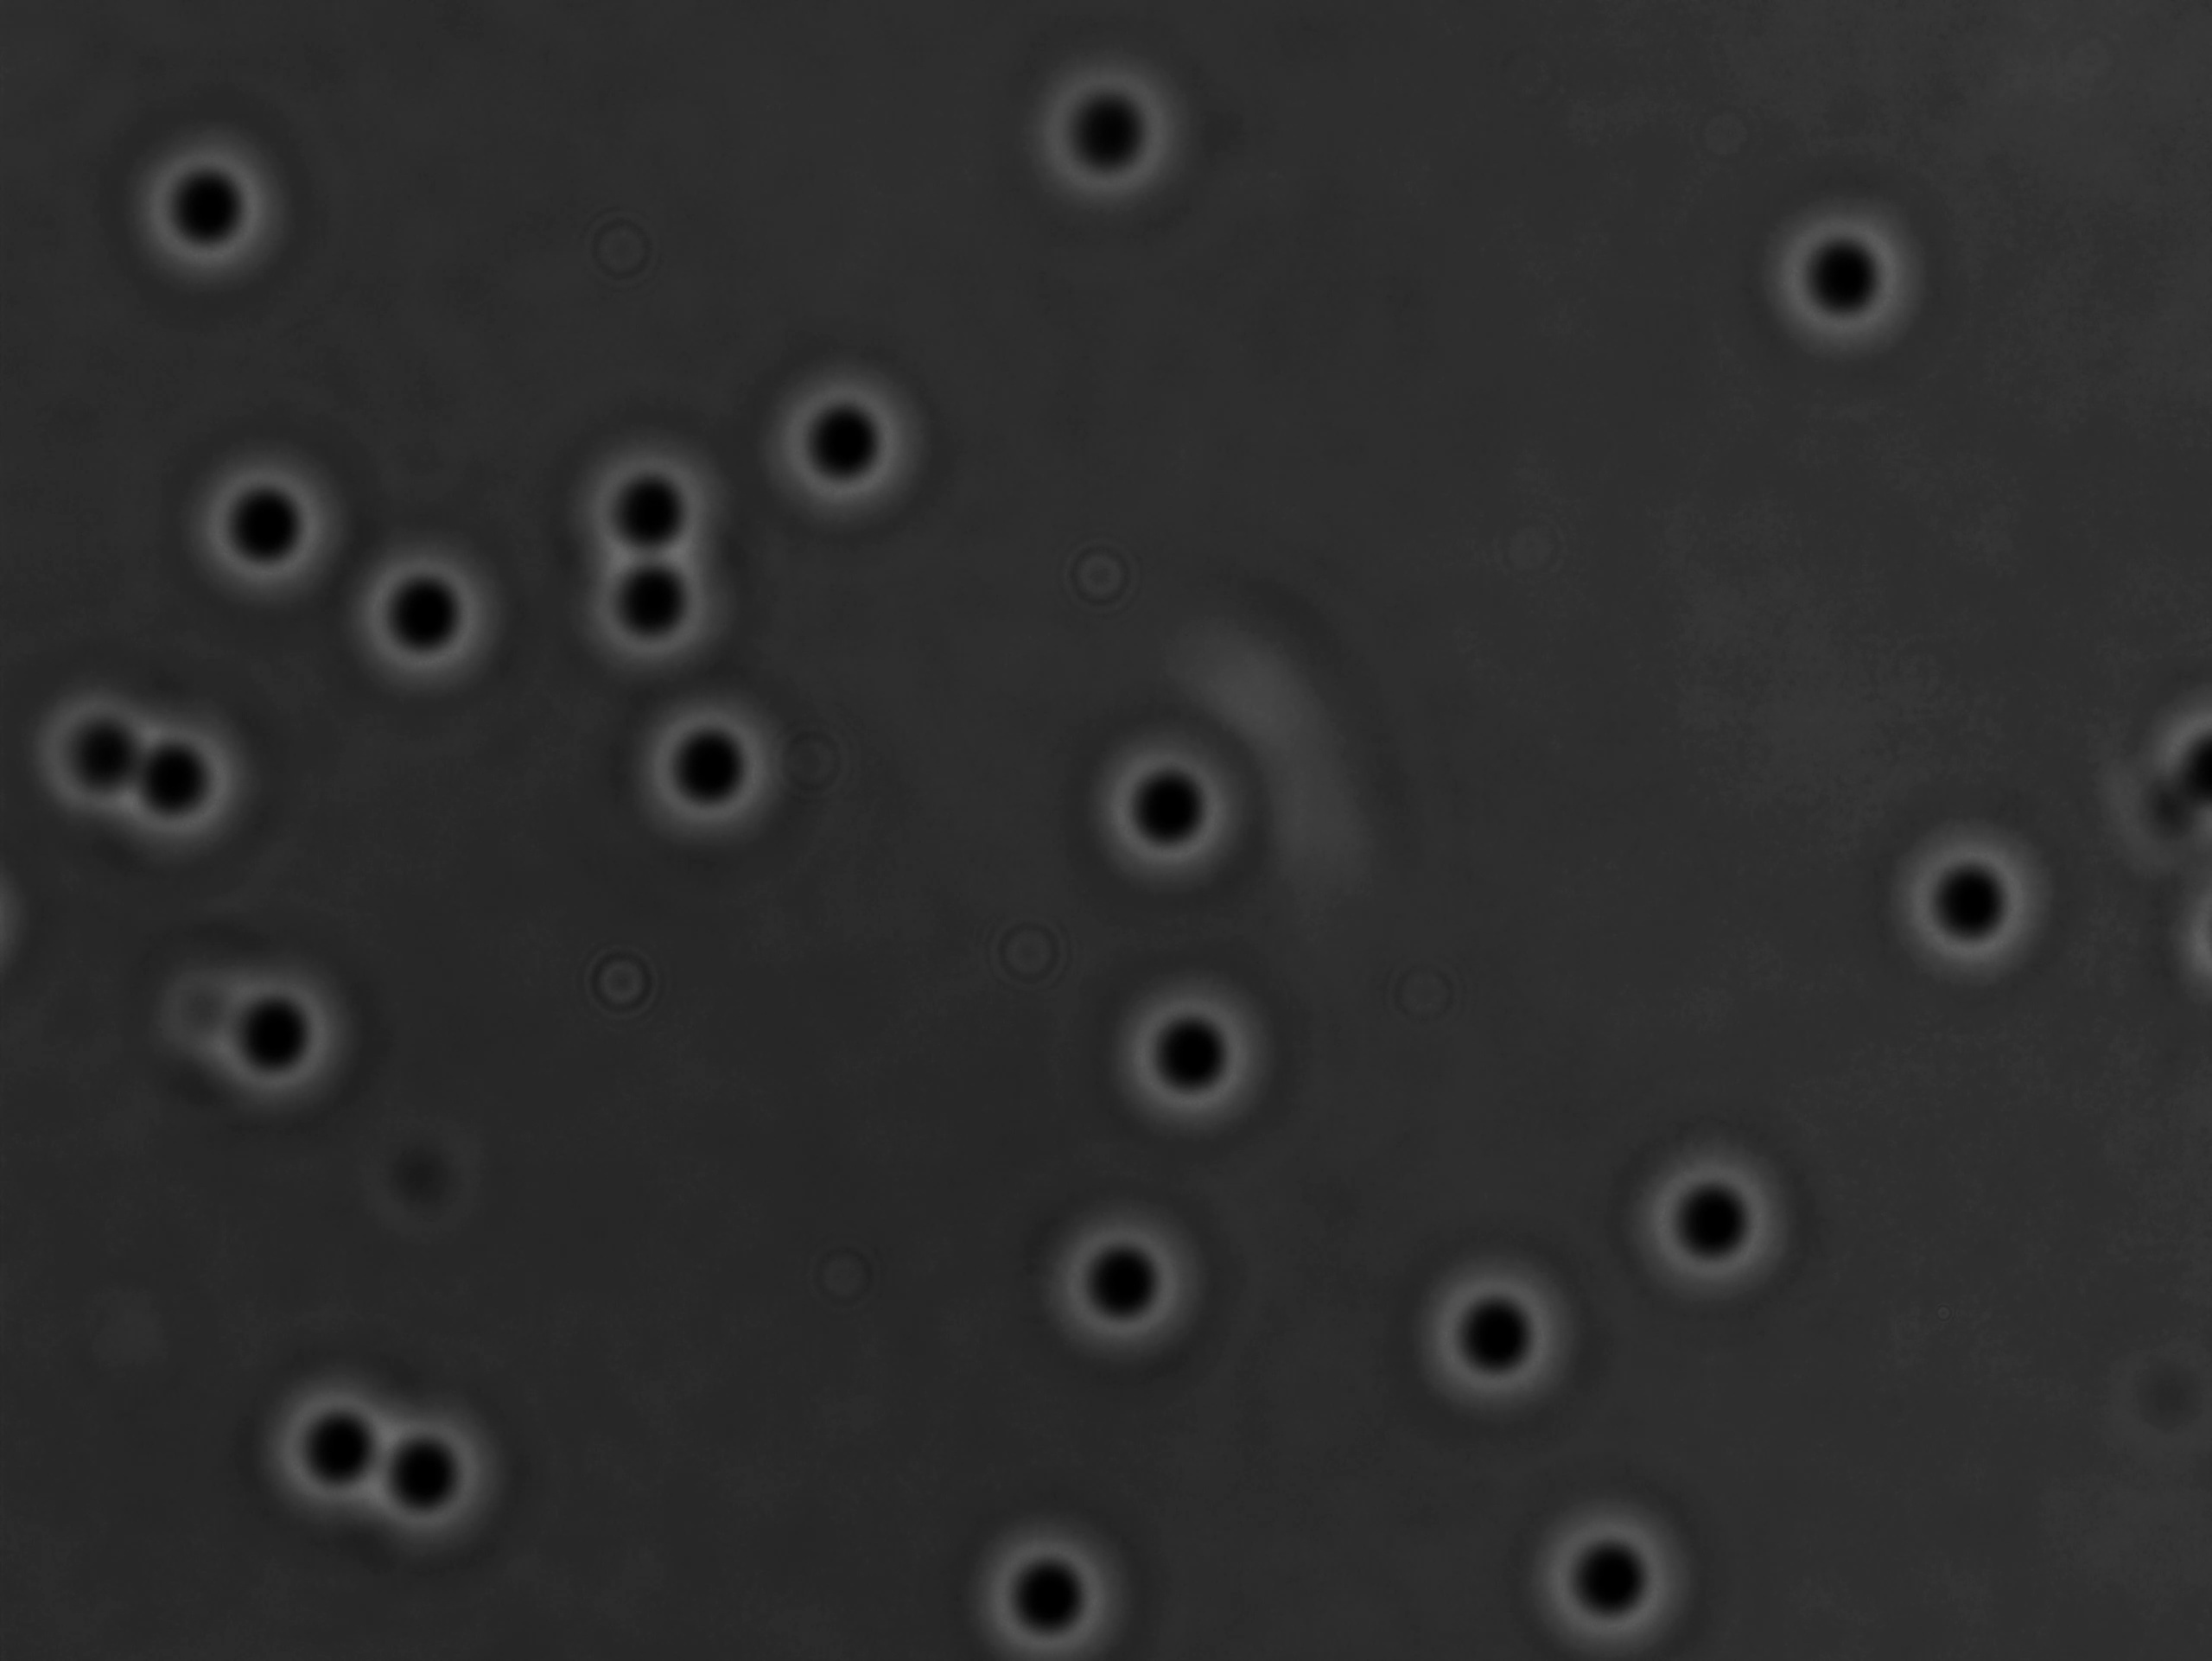depth:-80: (1041, 1185, 1240, 1380), (1612, 1118, 1813, 1303), (167, 450, 365, 635), (1019, 47, 1209, 237), (1089, 974, 1287, 1155), (190, 942, 382, 1124), (1083, 726, 1266, 913), (260, 1359, 438, 1546), (1410, 1254, 1600, 1429), (103, 700, 284, 881), (1516, 1494, 1711, 1661), (754, 366, 940, 541), (351, 1387, 527, 1565), (120, 126, 302, 298), (345, 539, 523, 712), (26, 656, 204, 827), (567, 530, 750, 694), (1882, 818, 2058, 988), (963, 1506, 1150, 1661), (1760, 206, 1931, 373), (632, 684, 808, 844), (556, 438, 733, 595)
